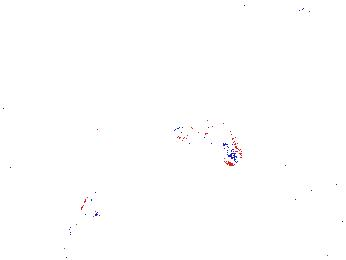X-ray fish: (216, 122, 242, 170)
glassfish: (65, 162, 129, 252), (193, 133, 276, 191)
red belly glassfish: (298, 5, 325, 27)
redtail glassfish: (173, 122, 216, 147)
